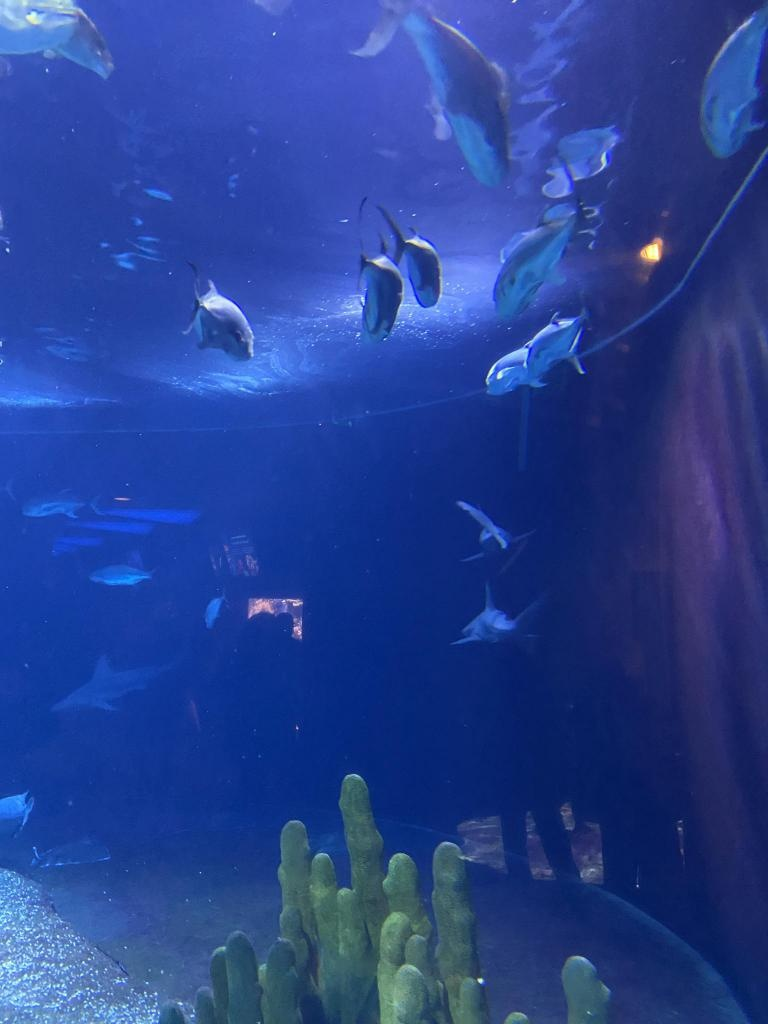fish: (351, 0, 518, 190), (695, 0, 768, 157), (492, 206, 582, 320), (373, 195, 442, 309), (442, 486, 532, 568), (176, 273, 256, 363), (21, 0, 115, 76), (526, 301, 592, 377), (358, 236, 404, 342), (485, 339, 549, 399), (83, 560, 166, 588), (1, 792, 33, 834)
shark: (48, 647, 180, 717), (448, 578, 546, 652), (21, 486, 102, 522)
stingray: (32, 838, 109, 870)
